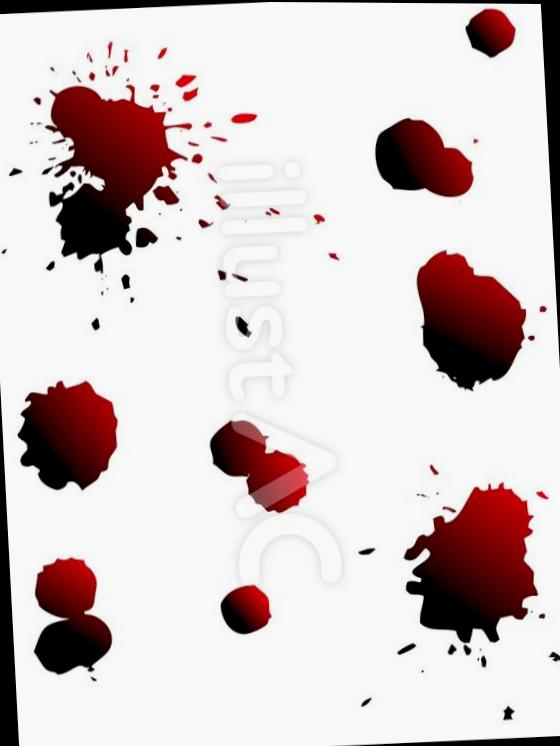Fire: (45, 83, 192, 273), (404, 480, 538, 642), (416, 249, 526, 391), (17, 380, 117, 490), (209, 419, 310, 513), (33, 557, 112, 674), (374, 117, 474, 197), (220, 583, 271, 634), (466, 6, 515, 56)
